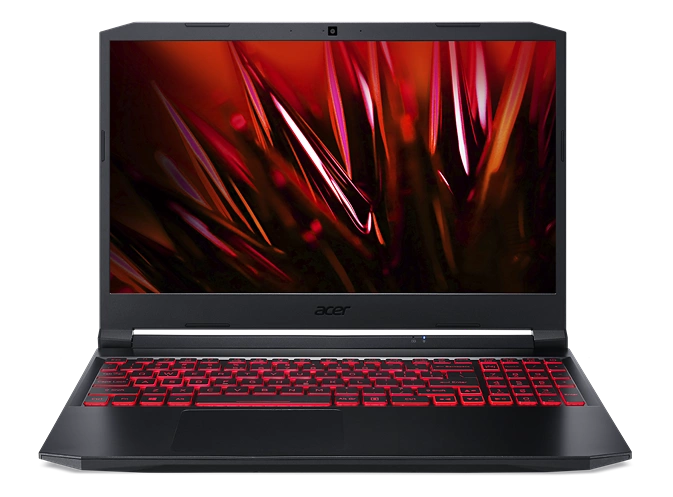laptop: (33, 12, 649, 475)
